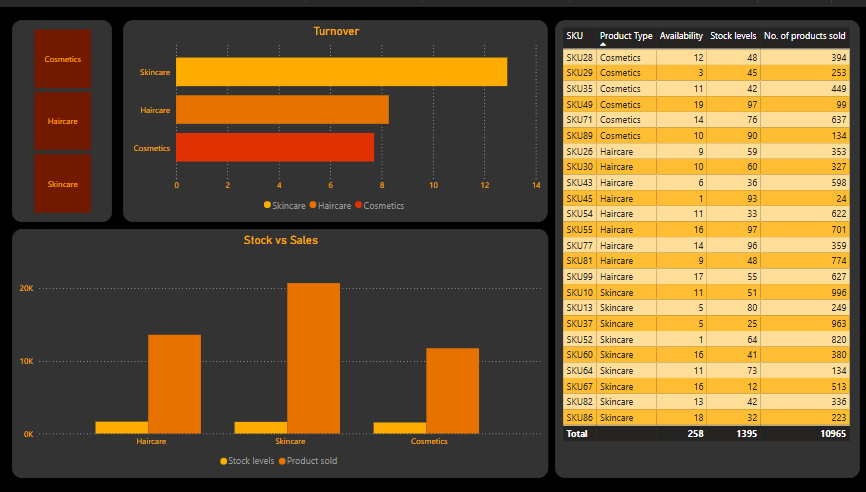

This screenshot's page, from the dashboard's own definition file:
{"tool":"powerbi","page":{"name":"Inventory Management","canvas":[1280,720],"ordinal":1},"visuals":[{"type":"clusteredColumnChart","title":"Stock vs Sales","fields":{"Category":["Cleaned_Data.Product Type"],"Y":["Sum(Cleaned_Data.Stock levels)","Sum(Cleaned_Data.Number of products sold)"]},"box":[17.6,326.2,787.6,365.9],"z":0},{"type":"barChart","title":"Turnover","fields":{"Category":["Cleaned_Data.Product Type"],"Y":["Cleaned_Data.Inventory Turnover"],"Series":["Cleaned_Data.Product Type"]},"box":[180.7,19.1,624.5,296.8],"z":1000},{"type":"tableEx","fields":{"Values":["Cleaned_Data.SKU","Cleaned_Data.Product Type","Sum(Cleaned_Data.Availability)","Sum(Cleaned_Data.Stock levels)","Sum(Cleaned_Data.Number of products sold)"]},"box":[815.5,19.1,448.2,673],"z":2000},{"type":"slicer","fields":{"Values":["Cleaned_Data.Product Type"]},"box":[17.6,19.1,146.9,296.8],"z":3000}]}

Visuals, with their boxes in screenshot pixels (x1, y1, x2, y2), scaled from the page's 1280x720 canvas onto the 866x492 screenshot:
"Stock vs Sales" clusteredColumnChart: bbox=[12, 223, 545, 473]
"Turnover" barChart: bbox=[122, 13, 545, 216]
tableEx - Cleaned_Data.SKU x Cleaned_Data.Product Type: bbox=[552, 13, 855, 473]
slicer - Cleaned_Data.Product Type: bbox=[12, 13, 111, 216]
